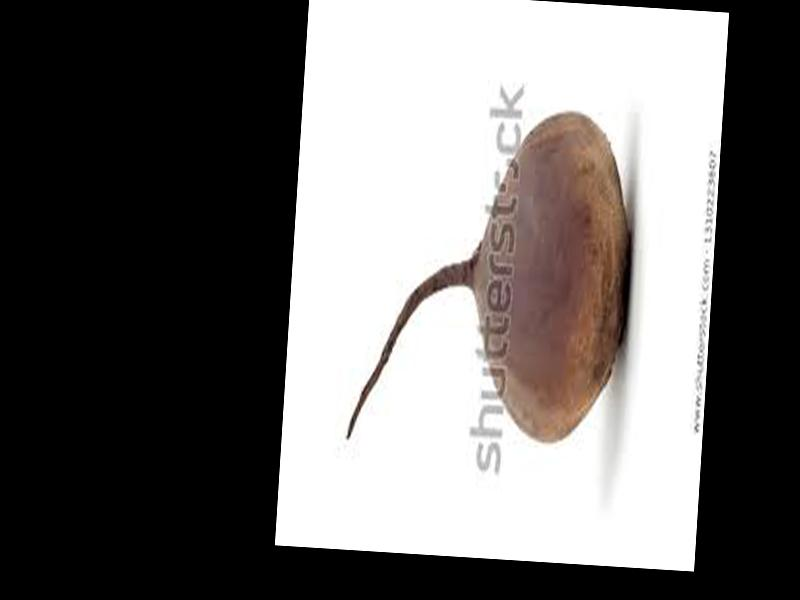Beet: (346, 95, 641, 455)
